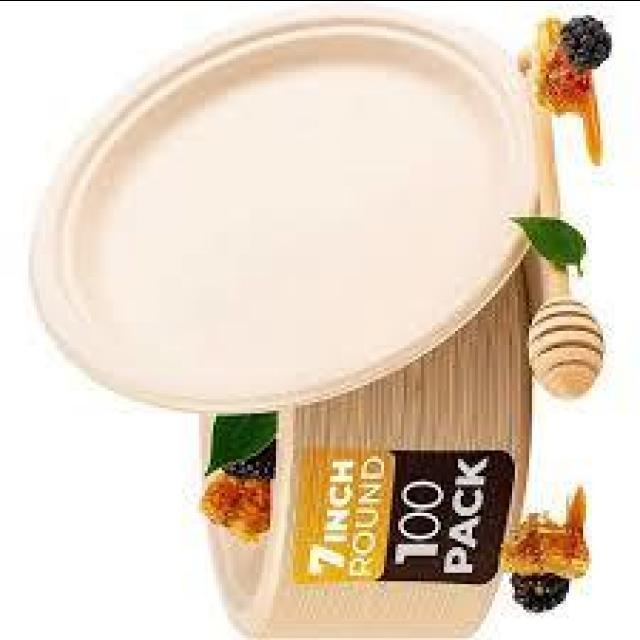plate: (14, 0, 544, 442)
